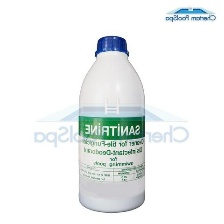cleaning_solution: (73, 33, 149, 214)
